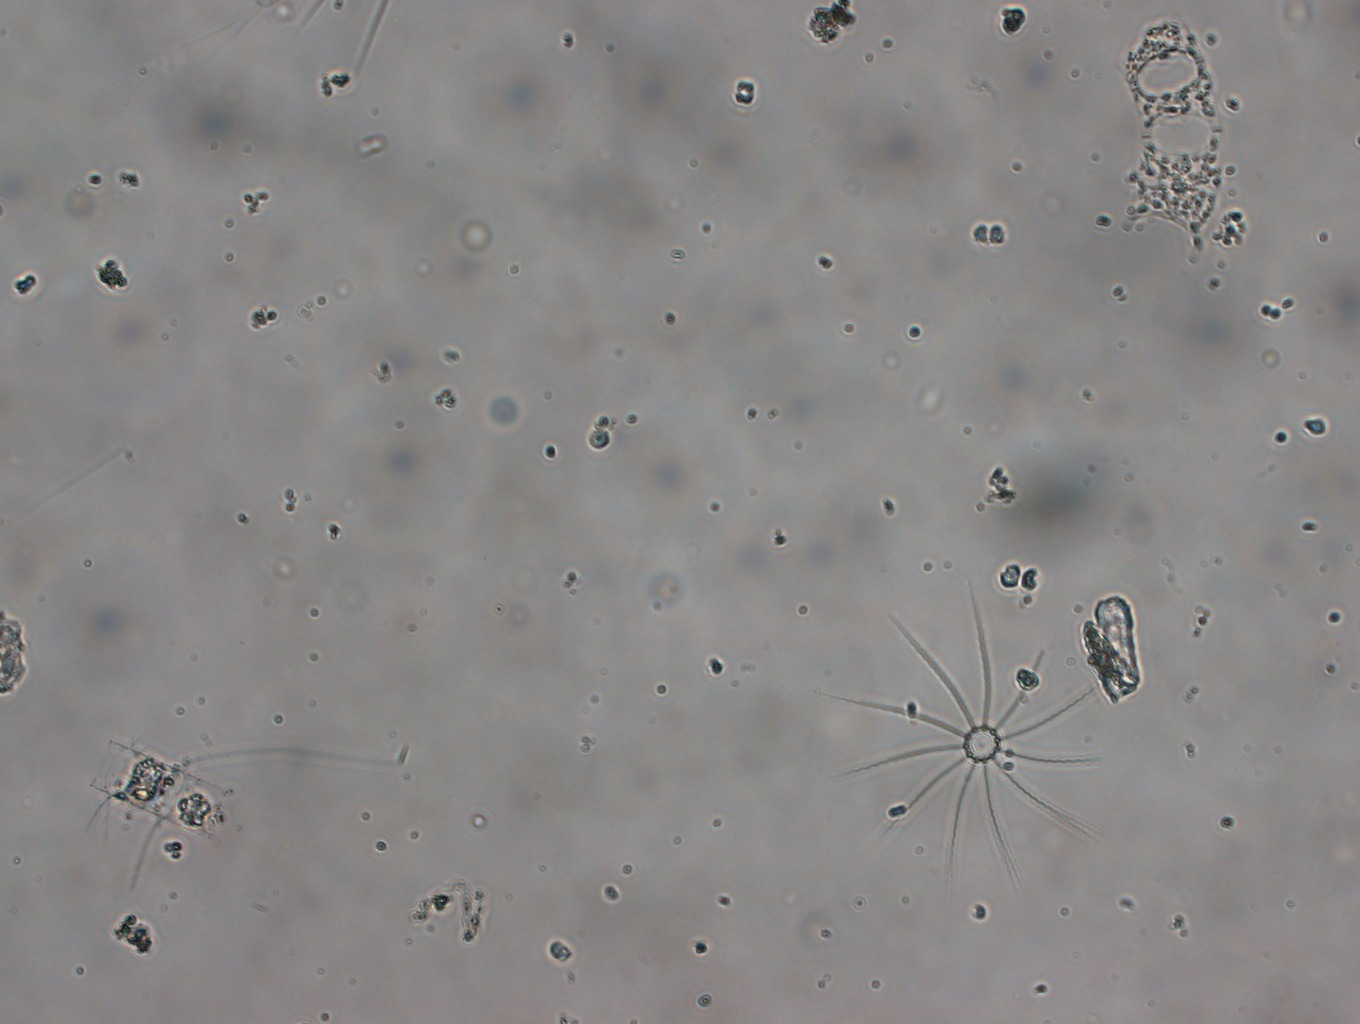bacteriastrum: (835, 581, 1114, 882)
eucampia: (1114, 14, 1223, 230)
